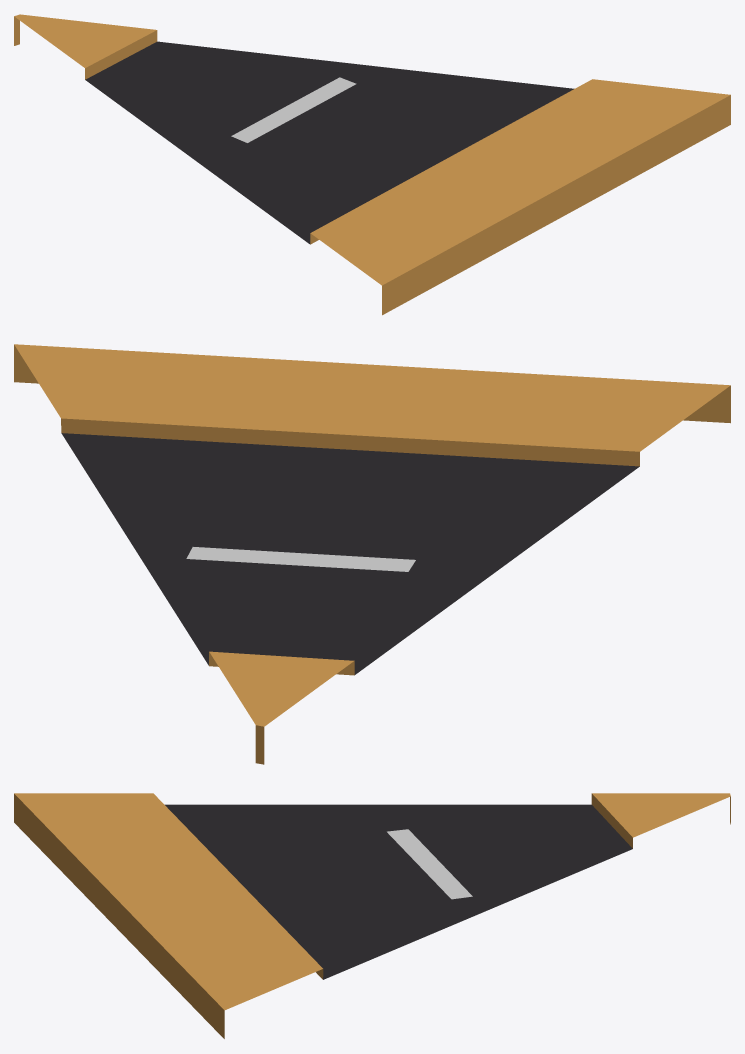
File: L-Tri.fbx
3 views of the same model, one above another, from view 1: azimuth 30°, elevation 25°; view 2: azimuth 150°, elevation 25°; view 3: azimuth 270°, elevation 25° (orthographic). The views are drawn at different scales.
Visible parts, largest first — view 1: Cube.004; view 2: Cube.004; view 3: Cube.004.
Boxes of the visible parts, x1,y1,x2,y2 form: Cube.004: (14,14,730,315); Cube.004: (14,344,730,764); Cube.004: (14,793,730,1038).
Size of the model in its own units: 355 by 22.21 by 495.
